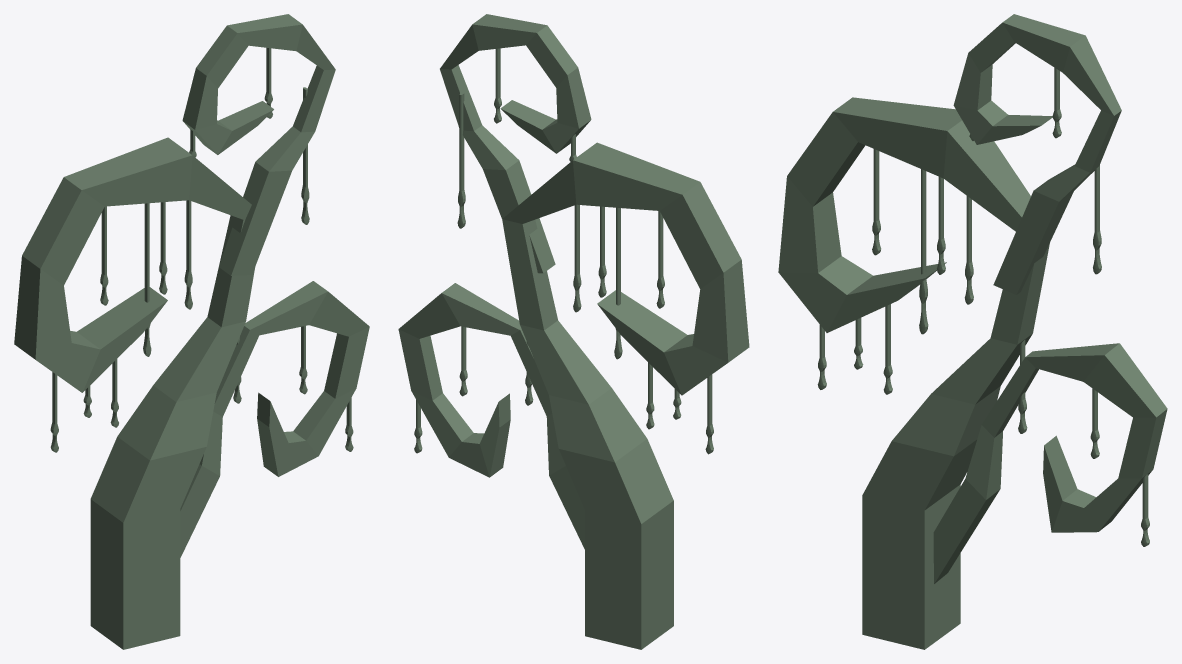
File: Plante.fbx
3 views of the same model, side by side, from view 1: azimuth 30°, elevation 25°; view 2: azimuth 150°, elevation 25°; view 3: azimuth 330°, elevation 25° (orthographic). The views are drawn at different scales.
Visible parts, largest first — view 1: group2_pCube41; view 2: group2_pCube41; view 3: group2_pCube41.
Boxes of the visible parts, left/top/right/bottom form: group2_pCube41: left=14, top=14, right=369, bottom=649; group2_pCube41: left=398, top=14, right=749, bottom=649; group2_pCube41: left=778, top=14, right=1167, bottom=649.
Bounding box in the file's own units: 88.17 × 145 × 14.76.
